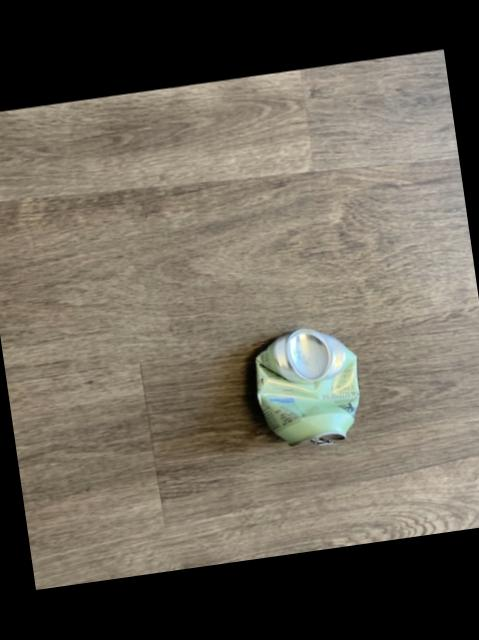metal: (255, 328, 358, 444)
